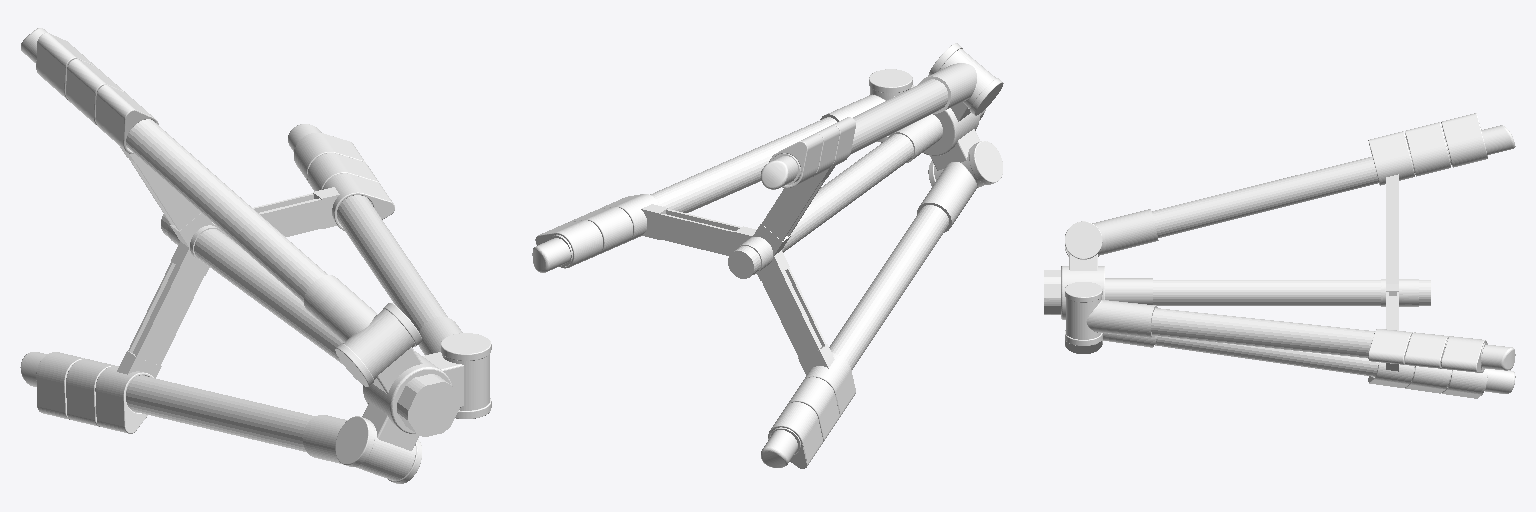
robot.urdf — camera_base:
<?xml version="1.0" encoding="utf-8"?>
<!-- This URDF was automatically created by SolidWorks to URDF Exporter! Originally created by Stephen Brawner (brawner@gmail.com)
     Commit Version: 1.6.0-4-g7f85cfe  Build Version: 1.6.7995.38578
     For more information, please see http://wiki.ros.org/sw_urdf_exporter -->
<robot
  name="camera_base">
  <link
    name="base_link">
    <inertial>
      <origin
        xyz="0.55262 0.63542 0.59184"
        rpy="0 3.14 0" />
      <mass
        value="15.57" />
      <inertia
        ixx="0.30648"
        ixy="0.00023852"
        ixz="0.0112"
        iyy="0.7762"
        iyz="-0.00010341"
        izz="1.0218" />
    </inertial>
    <visual>
      <origin
        xyz="0 0 0"
        rpy="0 0 0" />
      <geometry>
        <mesh
          filename="../meshes/base.stl" />
      </geometry>
      <material
        name="">
        <color
          rgba="1 1 1 1" />
      </material>
    </visual>
    <collision>
      <origin
        xyz="0 0 0"
        rpy="0 0 0" />
      <geometry>
        <mesh
          filename="../meshes/base.stl" />
      </geometry>
    </collision>
  </link>
</robot>

--- Render facts (derived) ---
3 views of the same robot in one strip: view 1: azimuth 30°, elevation 25°; view 2: azimuth 150°, elevation 25°; view 3: azimuth 270°, elevation 25° (orthographic).
Model camera_base with 1 links and 0 joints (none), rooted at base_link, posed every joint at zero.
Links seen in each view (by area): view 1: base_link; view 2: base_link; view 3: base_link.
Link boxes in pixels (x1=…): base_link: x1=20, y1=28, x2=491, y2=483; base_link: x1=532, y1=43, x2=1003, y2=468; base_link: x1=1044, y1=113, x2=1515, y2=398.
Size in the robot's own frame: 19.05 by 32.78 by 21.85 metres.
Meshes: 1 distinct files referenced, 1 mesh visuals loaded (1 binary STL).
